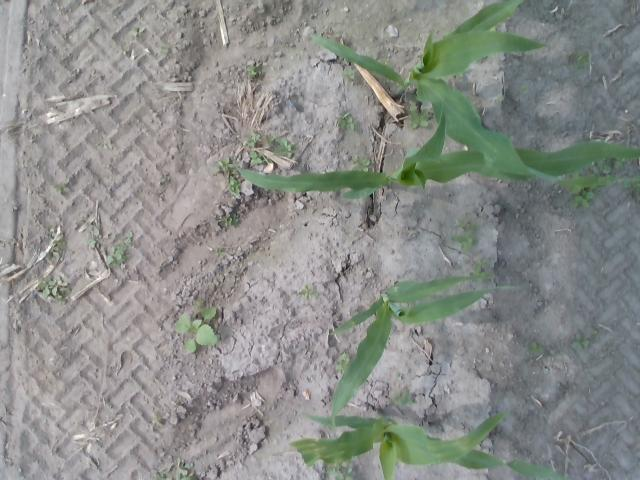Maize: (309, 0, 640, 188), (233, 103, 640, 200), (325, 275, 520, 430), (290, 408, 572, 480)
Weeds: (174, 300, 218, 354), (107, 230, 133, 270), (36, 274, 70, 304), (566, 184, 602, 210), (452, 218, 479, 252), (326, 460, 354, 480), (470, 259, 494, 282), (214, 156, 240, 177), (566, 50, 592, 70), (588, 156, 612, 177), (176, 457, 197, 480), (274, 138, 298, 158), (409, 105, 429, 128), (44, 237, 64, 260), (389, 389, 414, 406), (625, 174, 640, 202), (336, 110, 356, 130), (84, 224, 99, 248), (296, 284, 318, 300), (218, 212, 240, 228), (352, 154, 371, 172), (248, 150, 272, 164), (242, 131, 261, 148), (336, 352, 350, 372), (226, 176, 240, 196), (54, 178, 71, 194), (571, 333, 589, 348), (154, 467, 172, 480), (246, 62, 262, 76), (528, 341, 544, 354), (264, 132, 276, 146), (215, 247, 228, 258), (342, 70, 356, 80), (612, 158, 626, 168), (568, 168, 581, 178), (157, 174, 166, 186), (132, 25, 140, 38), (454, 70, 466, 78), (154, 414, 162, 426), (380, 57, 389, 66), (162, 44, 170, 54), (49, 226, 56, 235), (518, 86, 528, 92), (590, 328, 598, 334), (396, 374, 402, 380)
